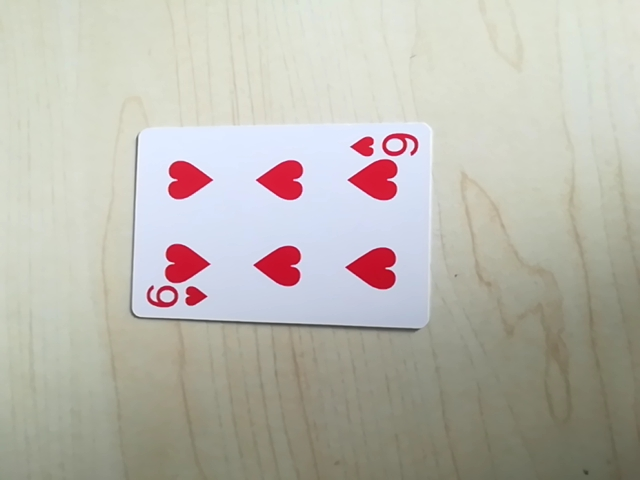hx 6: (348, 126, 421, 160), (142, 284, 209, 317)
